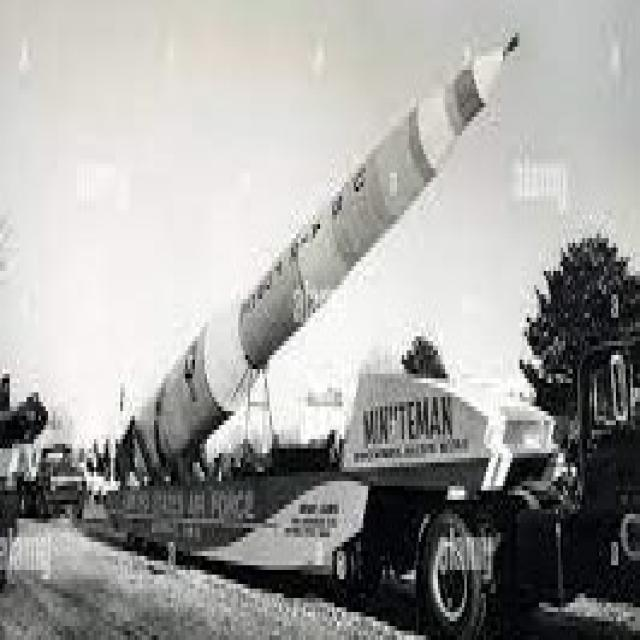missile: (117, 29, 524, 477)
